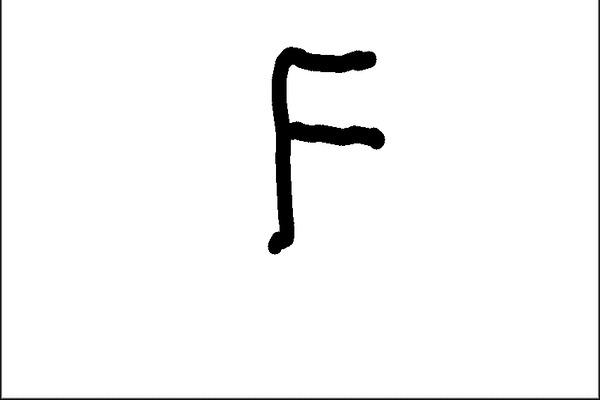F: (264, 43, 387, 258)
